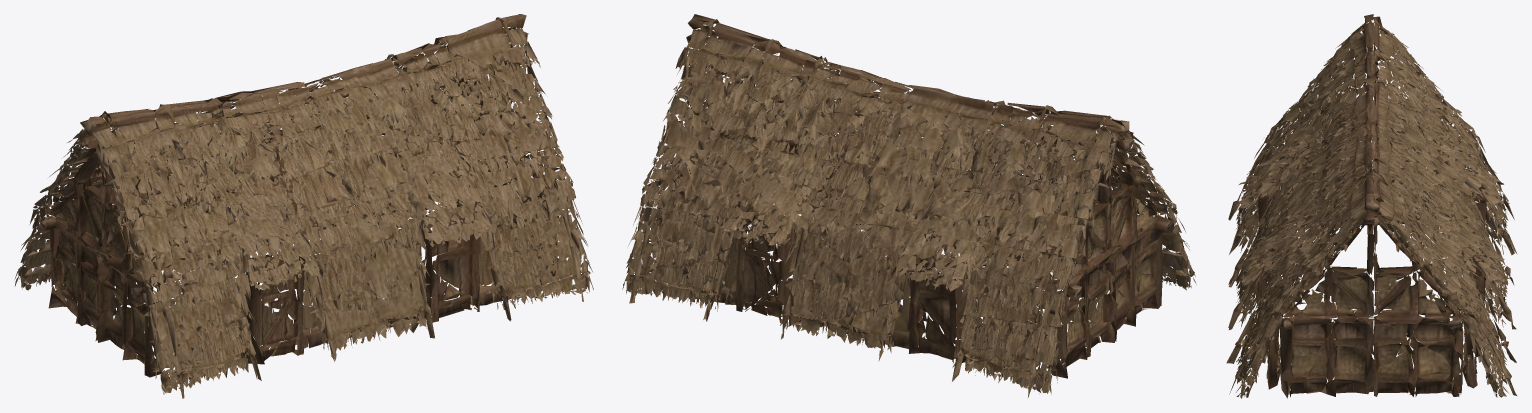
The model's file is guaranies_centro.glb.
3 views of the same model, side by side, from view 1: azimuth 30°, elevation 25°; view 2: azimuth 150°, elevation 25°; view 3: azimuth 270°, elevation 25° (orthographic). The views are drawn at different scales.
Visible parts, largest first — view 1: Mesh_0; view 2: Mesh_0; view 3: Mesh_0.
Boxes of the visible parts, <box> form: Mesh_0: <box>14,14,593,398</box>; Mesh_0: <box>622,14,1196,397</box>; Mesh_0: <box>1226,14,1517,398</box>.
Bounding box in the file's own units: 1.9 × 0.9446 × 1.21.
Materials: 1 (1 with a texture image).
